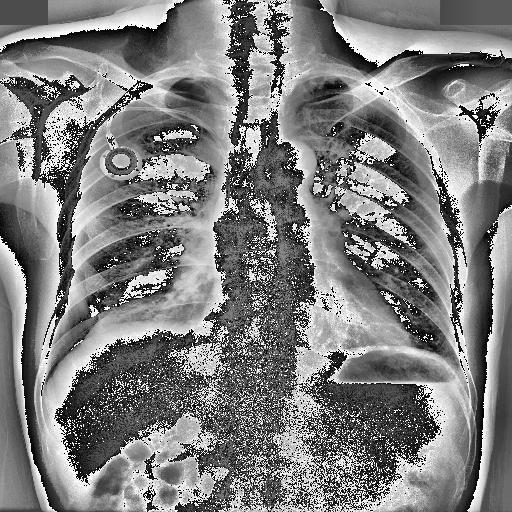0- Aortic enlargement: (268, 138, 320, 184)
11- Pleural thickening: (303, 68, 354, 92), (320, 68, 374, 90), (122, 82, 160, 104), (303, 71, 341, 84)
12- Pneumothorax: (33, 63, 229, 388), (42, 76, 224, 391), (44, 79, 228, 381)
13- Pulmonary fibrosis: (303, 71, 341, 84)
3- Cardiomegaly: (200, 290, 411, 354)
